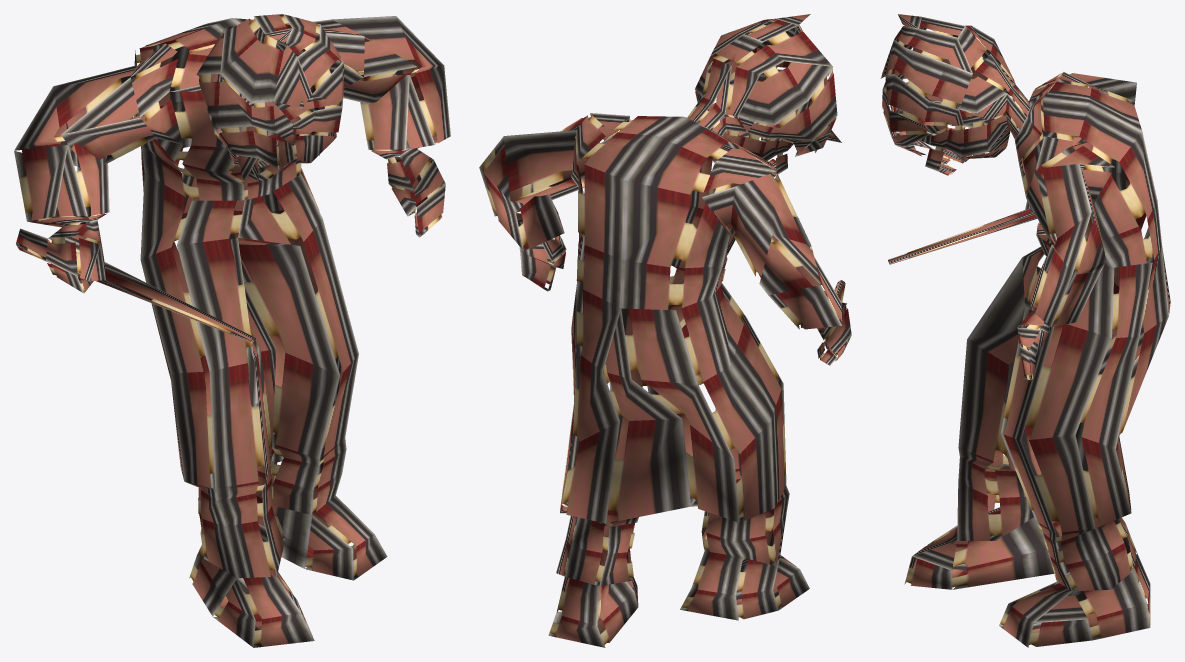
The picture shows the model from 3 angles, left to right: view 1: azimuth 30°, elevation 25°; view 2: azimuth 150°, elevation 25°; view 3: azimuth 270°, elevation 25°; orthographic projection. The views are drawn at different scales.
Parts seen in each view (by area): view 1: T1L7M001_0; view 2: T1L7M001_0; view 3: T1L7M001_0.
Part boxes in pixels (<box>): T1L7M001_0: <box>14,14,450,647</box>; T1L7M001_0: <box>479,14,851,647</box>; T1L7M001_0: <box>880,14,1170,647</box>.
Size of the model in its own units: 0.8007 by 1.15 by 0.546.
